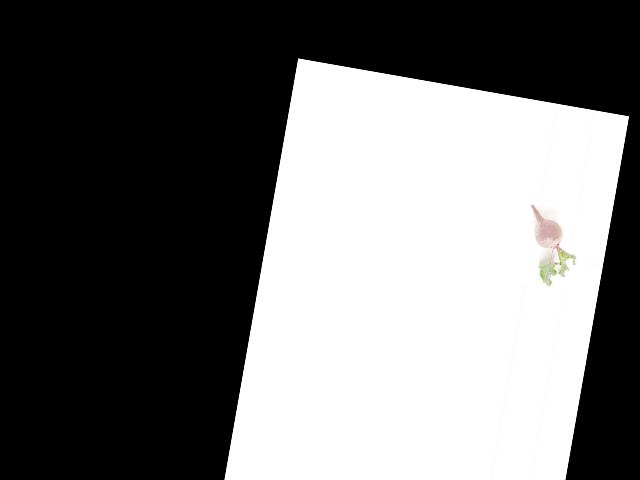beet: (517, 204, 584, 290)
